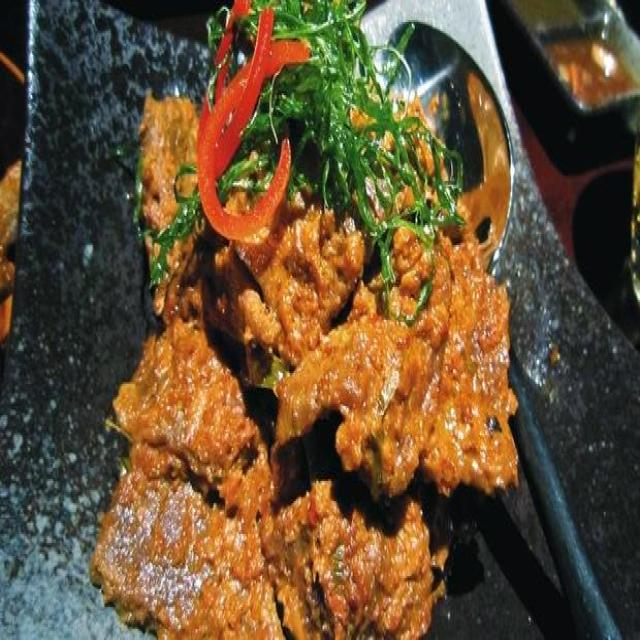Rendang: (93, 55, 529, 640)
